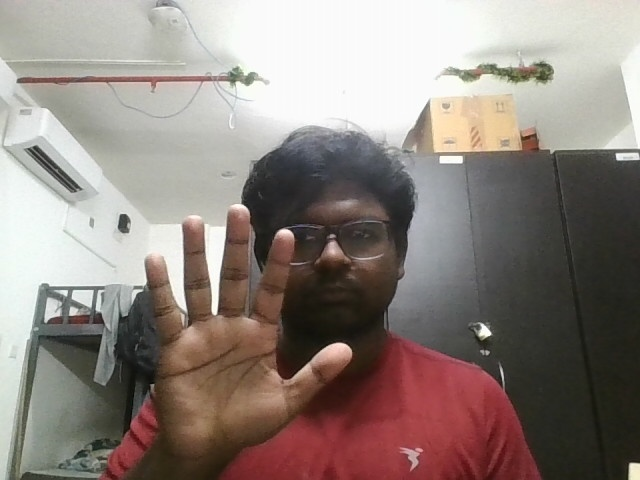Hello: (142, 200, 361, 467)
